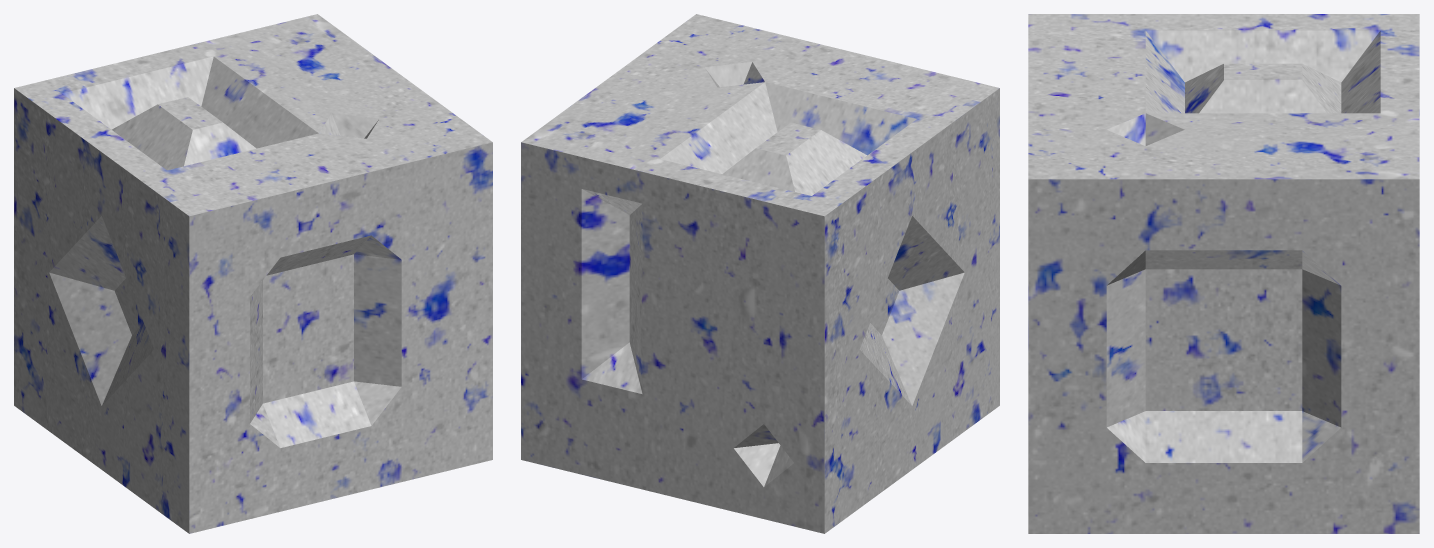
Rendered from phylosilicate.glb.
The picture shows the model from 3 angles, left to right: view 1: azimuth 30°, elevation 25°; view 2: azimuth 150°, elevation 25°; view 3: azimuth 270°, elevation 25°; orthographic projection. The views are drawn at different scales.
Visible parts, largest first — view 1: phylosilicate; view 2: phylosilicate; view 3: phylosilicate.
Part boxes in pixels (left/top/right/bottom): phylosilicate: left=14, top=14, right=492, bottom=533; phylosilicate: left=521, top=14, right=999, bottom=533; phylosilicate: left=1028, top=14, right=1419, bottom=533.
Size of the model in its own units: 1 by 1 by 1.
Materials: 1 (1 with a texture image).
